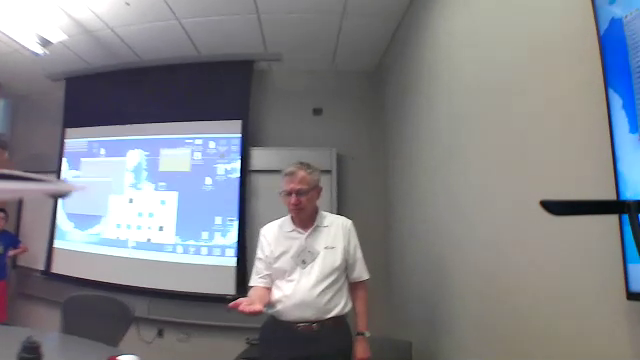land: (220, 289, 270, 319)
